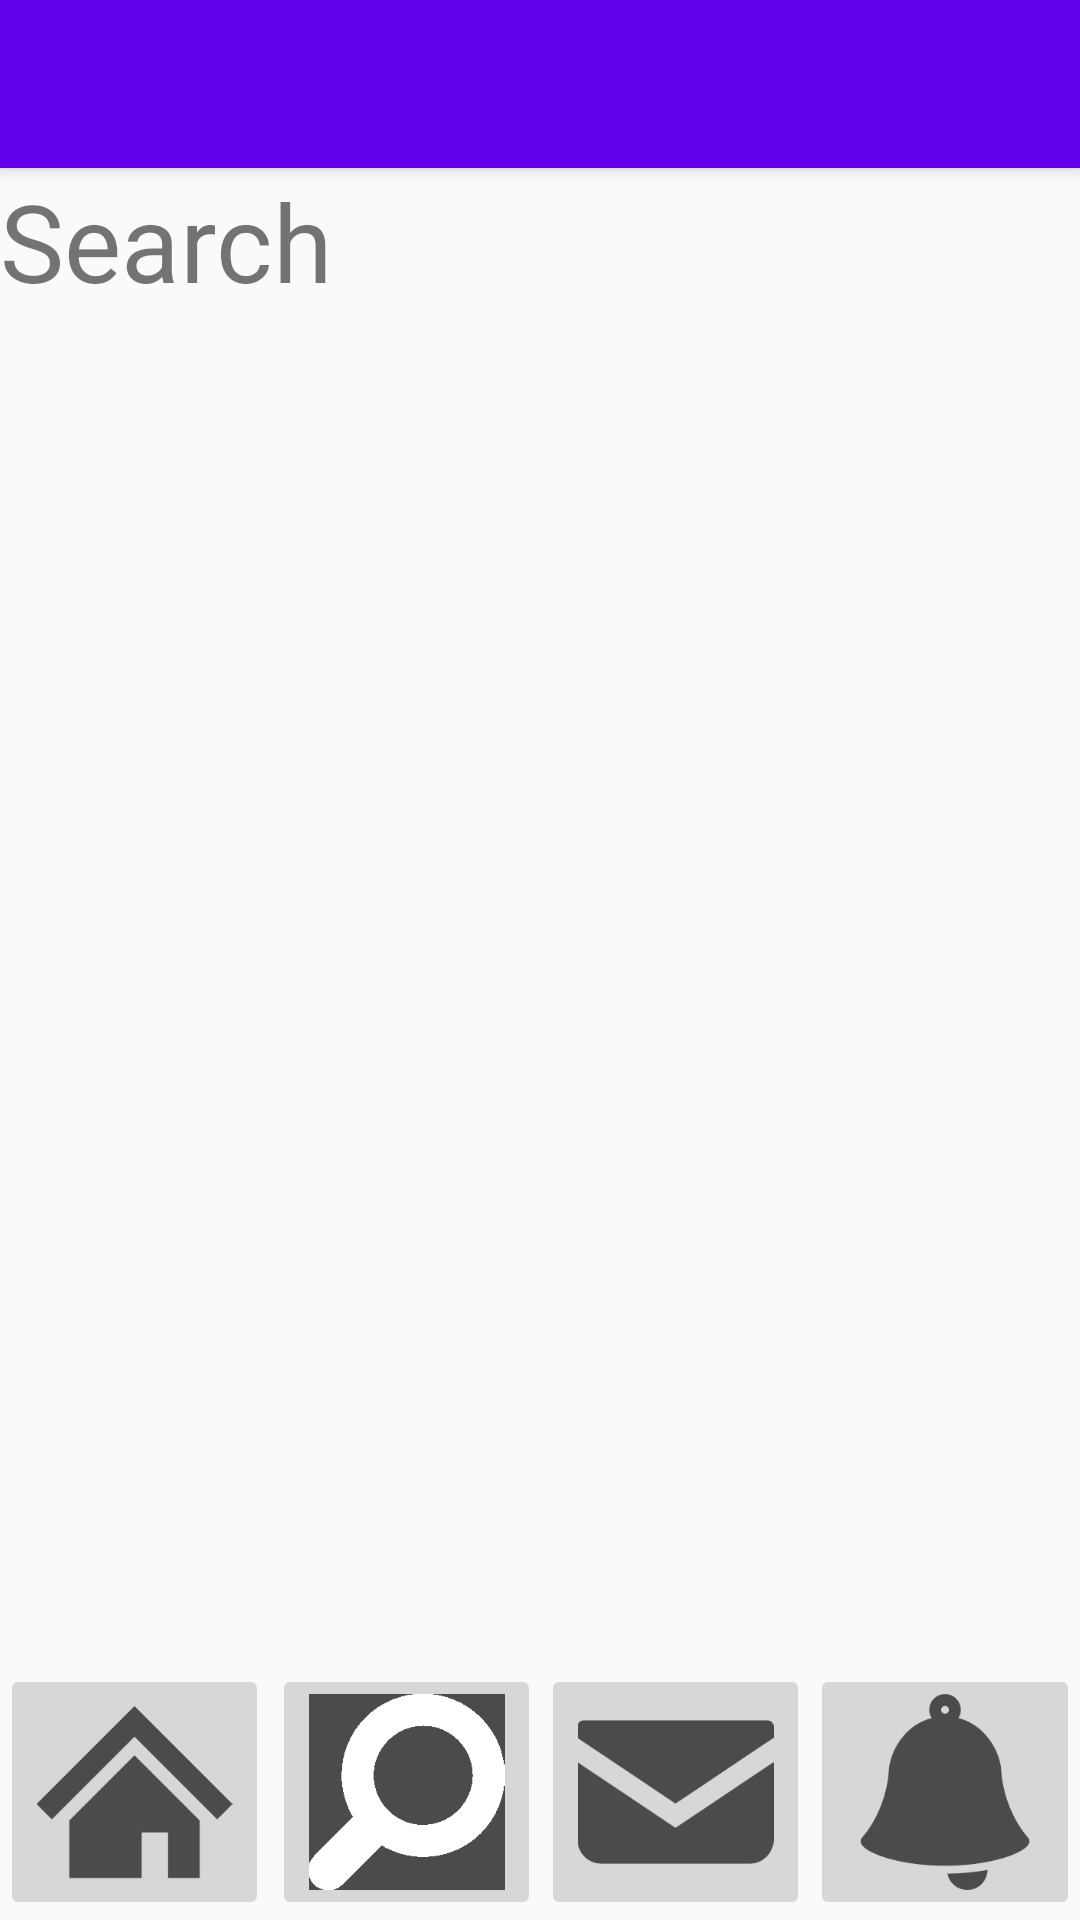

Where to tap for icons on this 1080x1920 app screen, as (x,y):
bell: (945,1792)
home: (134,1792)
mail: (675,1792)
on search: (406,1792)
